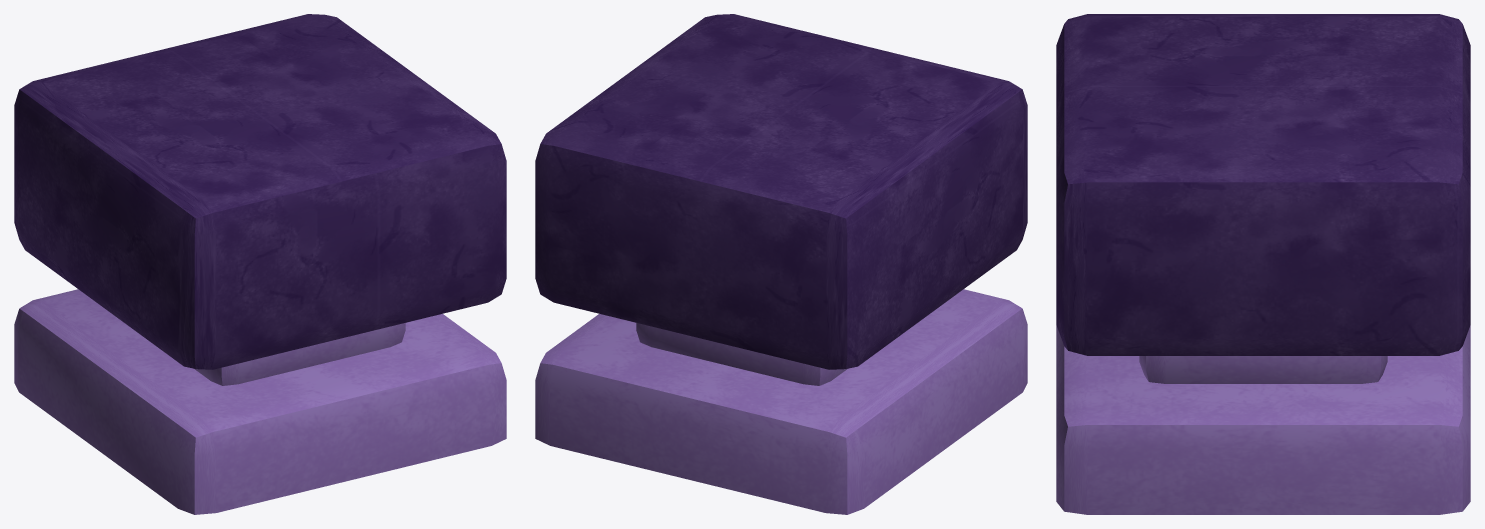
File: Skillshot_PinB_SqAsset_Low_hsr.fbx
3 views of the same model, side by side, from view 1: azimuth 30°, elevation 25°; view 2: azimuth 150°, elevation 25°; view 3: azimuth 270°, elevation 25° (orthographic). The views are drawn at different scales.
Parts seen in each view (by area): view 1: BounceBox, BounceBox001, BounceBox003; view 2: BounceBox, BounceBox001, BounceBox003; view 3: BounceBox, BounceBox001, BounceBox003.
Boxes of the visible parts, left/top/right/bottom form: BounceBox: left=14, top=14, right=506, bottom=369; BounceBox001: left=14, top=289, right=506, bottom=514; BounceBox003: left=194, top=323, right=405, bottom=385; BounceBox: left=535, top=14, right=1027, bottom=369; BounceBox001: left=535, top=289, right=1027, bottom=514; BounceBox003: left=636, top=323, right=847, bottom=385; BounceBox: left=1056, top=14, right=1470, bottom=355; BounceBox001: left=1056, top=325, right=1470, bottom=514; BounceBox003: left=1139, top=356, right=1387, bottom=383.
Size of the model in its own units: 19.69 by 17.64 by 19.69.
